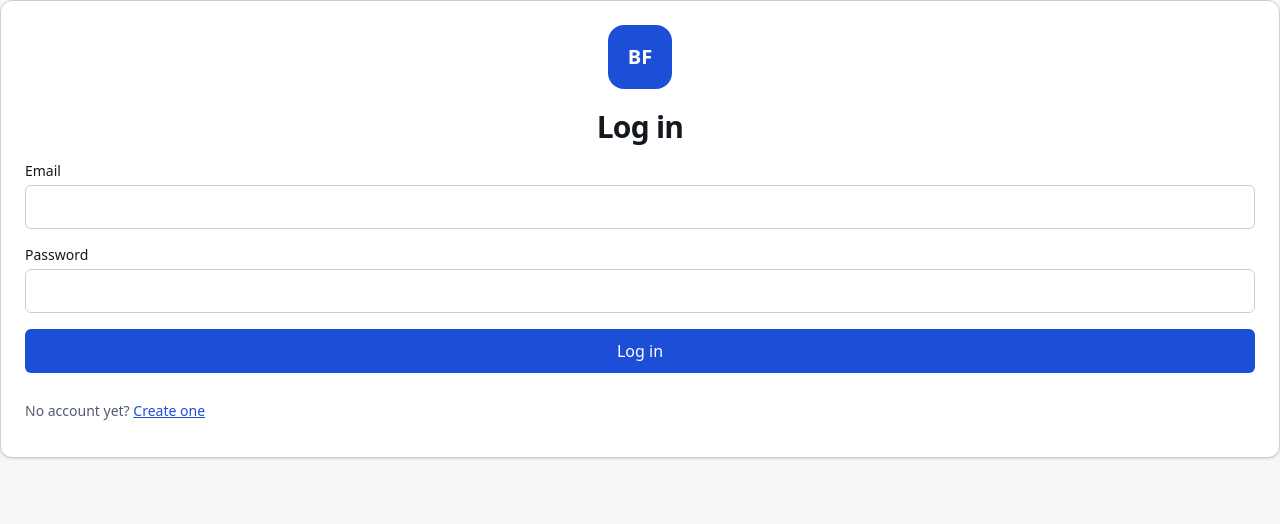
LoginRoute › blocks clearly invalid input without a request
This screenshot has width=1280, height=524.
Type "not-an-email" into the field labelled "Email" at x=640, y=207, box [25, 185, 1255, 229]
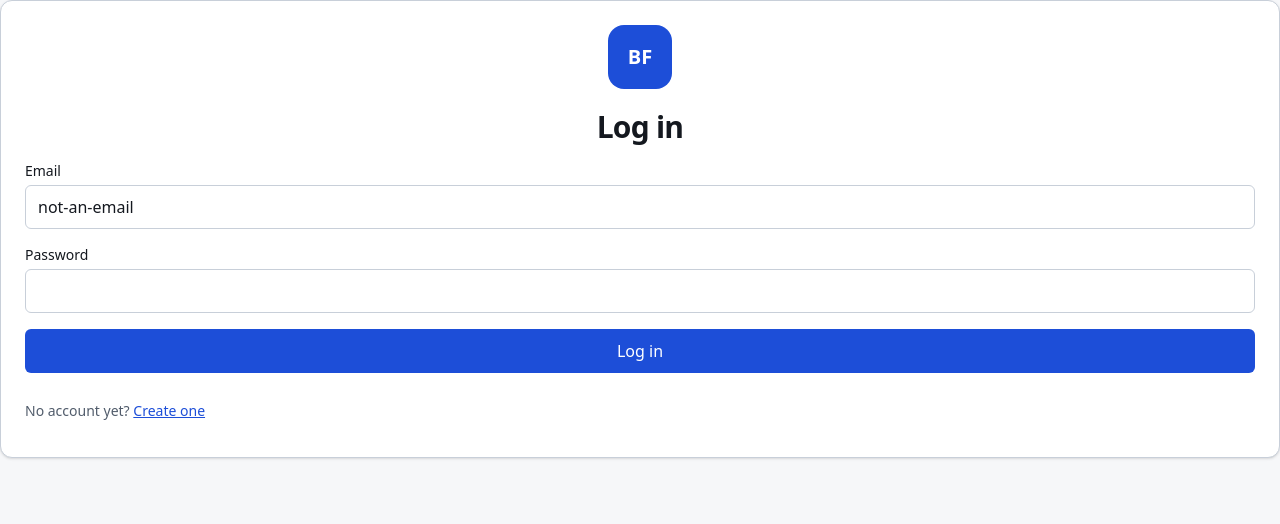
Type "123" into the password field labelled "Password" at x=640, y=291, box [25, 269, 1255, 313]
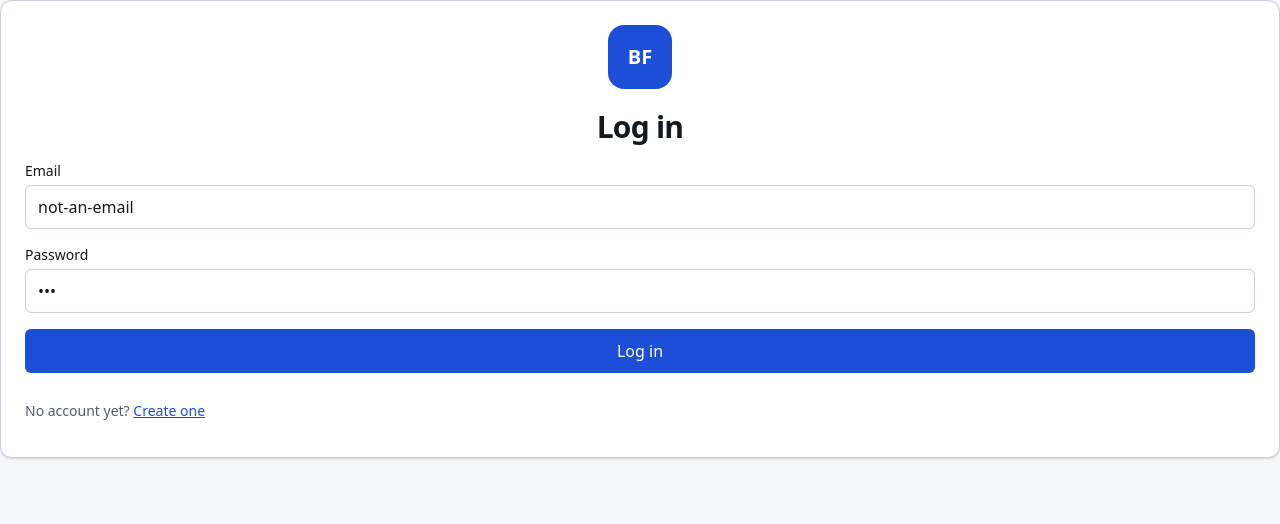
Submit the form, box [25, 161, 1255, 373]
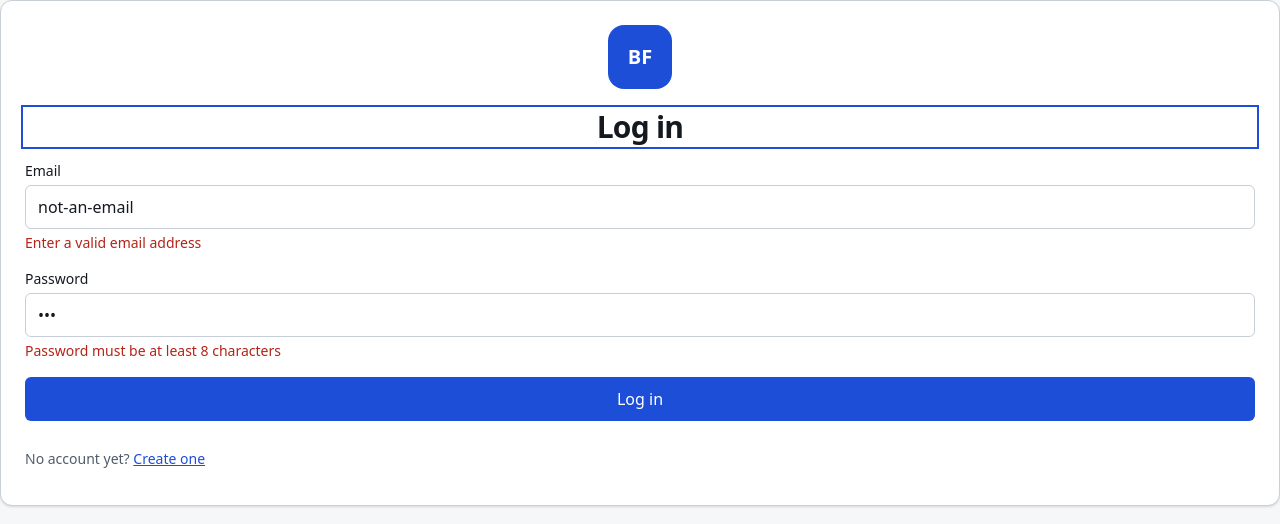
Expected: the text "Enter a valid email address" is shown, [25, 233, 201, 252]
Expected: the text "Password must be at least 8 characters" is shown, [25, 341, 281, 360]
